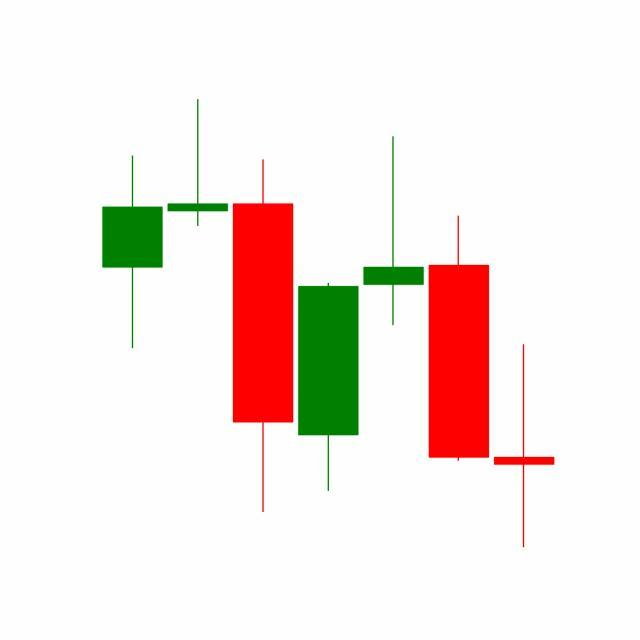Evening Star: (295, 132, 492, 495)
